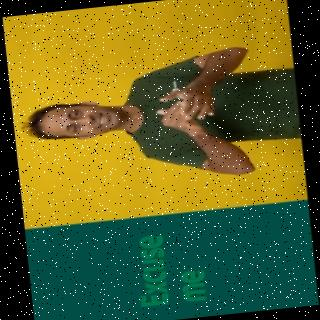ExcuseMe: (18, 40, 296, 195)
